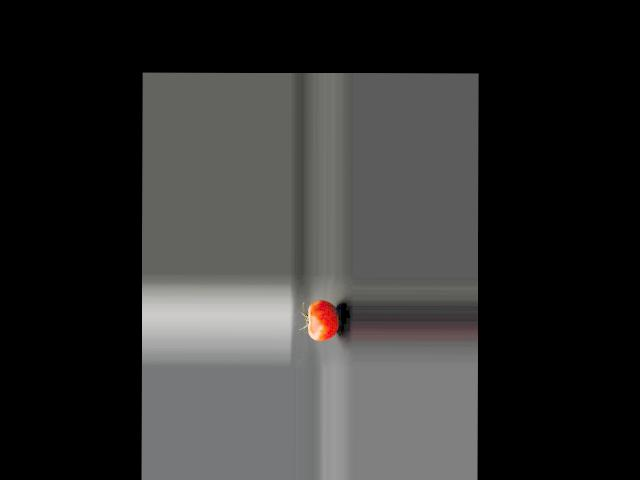tomato: (308, 300, 338, 341)
